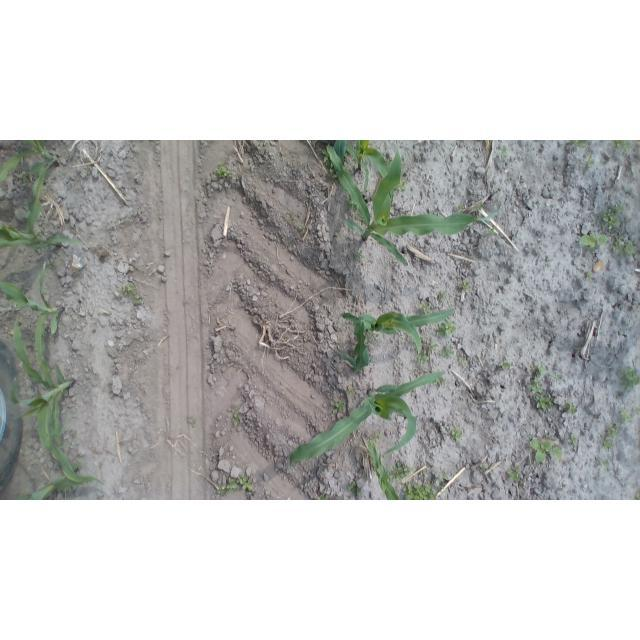Maize: (322, 142, 502, 265), (289, 368, 450, 461), (5, 313, 91, 484), (3, 259, 67, 384), (337, 306, 455, 370), (0, 182, 84, 252), (1, 140, 68, 193), (336, 141, 392, 196), (365, 438, 401, 500), (12, 473, 96, 499)
Weeds: (526, 365, 552, 412), (530, 436, 562, 464), (612, 233, 637, 259), (403, 482, 440, 499), (601, 204, 623, 232), (578, 233, 610, 251), (120, 283, 144, 305), (618, 366, 639, 390), (601, 422, 619, 450), (434, 319, 458, 338), (389, 462, 412, 481), (220, 478, 239, 494), (215, 162, 234, 178), (347, 480, 363, 497), (238, 475, 255, 491), (508, 466, 524, 482), (531, 363, 548, 377), (620, 408, 633, 425), (499, 359, 514, 373), (566, 400, 579, 416), (440, 345, 456, 358), (418, 349, 431, 365), (450, 426, 463, 442), (331, 400, 346, 413), (422, 338, 437, 351), (611, 202, 626, 215), (346, 195, 358, 211), (566, 140, 589, 148), (457, 280, 471, 293), (549, 369, 564, 381), (230, 412, 242, 427), (323, 152, 333, 170), (613, 140, 631, 150), (433, 376, 447, 388), (418, 301, 430, 314), (585, 154, 596, 168), (568, 435, 579, 448), (599, 458, 612, 469), (187, 417, 200, 428), (397, 181, 408, 193), (485, 225, 497, 236), (499, 146, 509, 158), (18, 172, 29, 182), (288, 211, 299, 221), (456, 203, 467, 213), (20, 491, 33, 499), (585, 271, 594, 282), (315, 493, 329, 500), (440, 472, 449, 482), (458, 357, 467, 367), (355, 252, 365, 261), (346, 387, 355, 396), (296, 224, 306, 232), (437, 289, 447, 297), (476, 463, 486, 471), (48, 262, 57, 270), (83, 169, 91, 177)
